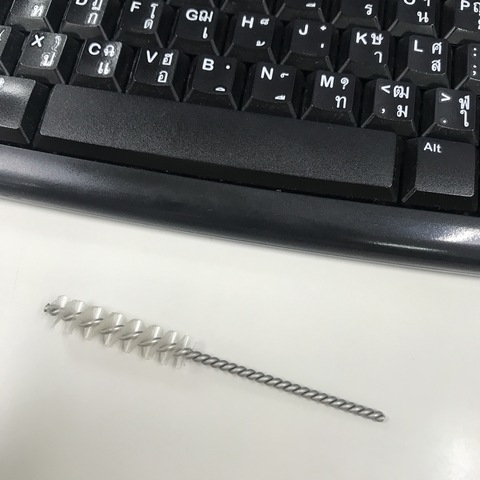Twist Brush-B: (40, 297, 385, 433)
